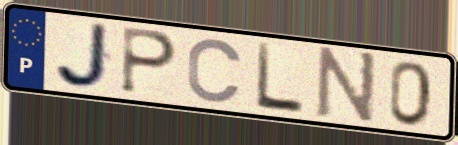0: (387, 59, 435, 127)
C: (185, 37, 246, 106)
J: (52, 21, 113, 91)
L: (253, 40, 306, 117)
N: (313, 45, 380, 128)
P: (117, 25, 180, 98)
